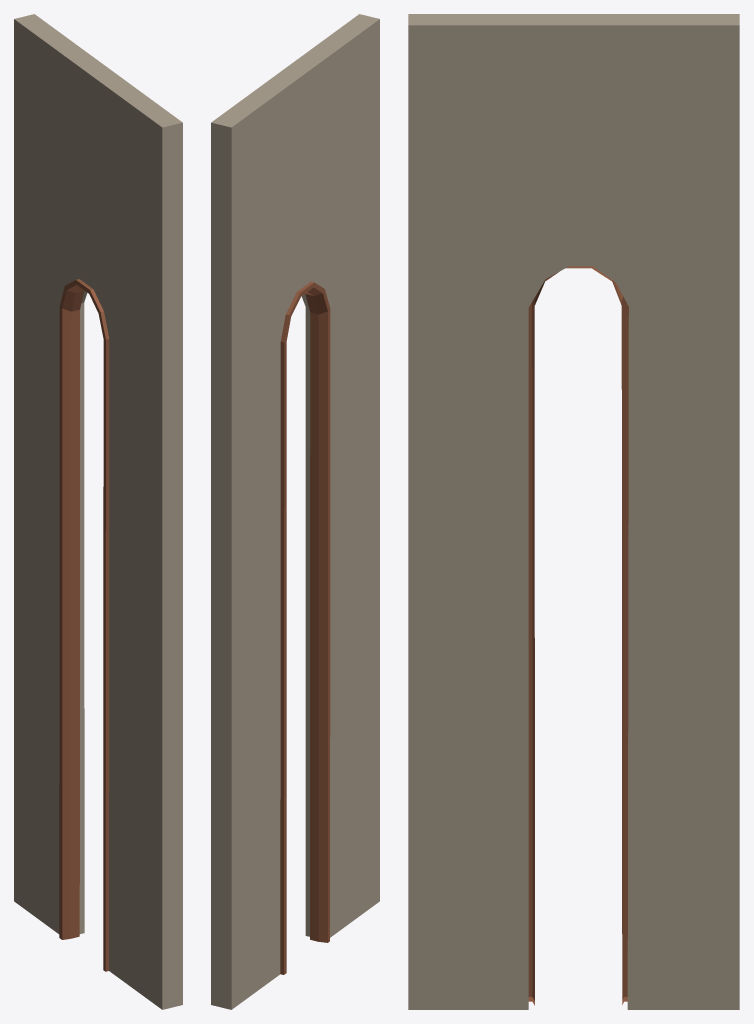
The model's file is SM_Door_Circle.FBX.
3 renders of one model, left to right at view 1: azimuth 30°, elevation 25°; view 2: azimuth 150°, elevation 25°; view 3: azimuth 270°, elevation 25°, orthographic. The views are drawn at different scales.
Visible parts, largest first — view 1: SM_Door_Circle; view 2: SM_Door_Circle; view 3: SM_Door_Circle.
Part boxes in pixels (box(x1,y1,x2,y2)): SM_Door_Circle: box(14, 14, 182, 1009); SM_Door_Circle: box(211, 14, 379, 1009); SM_Door_Circle: box(408, 14, 739, 1009).
Bounding box in the file's own units: 54.79 × 1926 × 587.
